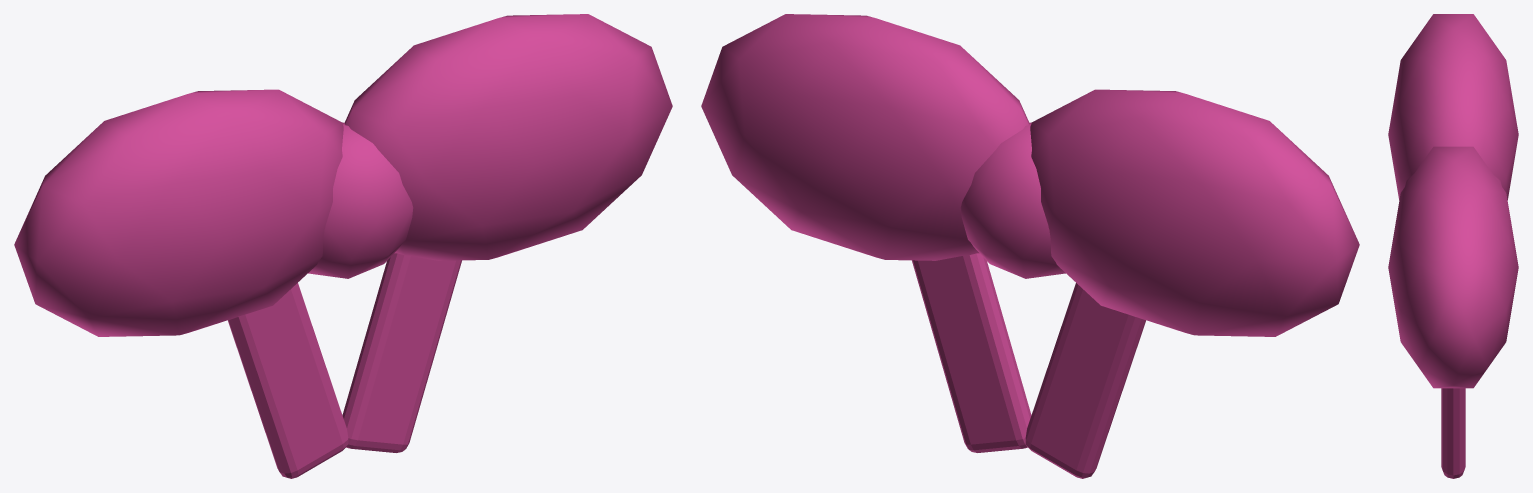
Rendered from hair_bow.glb.
The picture shows the model from 3 angles, left to right: view 1: azimuth 30°, elevation 25°; view 2: azimuth 150°, elevation 25°; view 3: azimuth 270°, elevation 25°; orthographic projection. The views are drawn at different scales.
Parts seen in each view (by area): view 1: hair_bow; view 2: hair_bow; view 3: hair_bow.
Part boxes in pixels (box(x1,y1,x2,y2)): hair_bow: box(14, 14, 672, 478); hair_bow: box(701, 14, 1359, 478); hair_bow: box(1388, 14, 1518, 478).
Bounding box in the file's own units: 0.5339 × 0.328 × 0.108.
